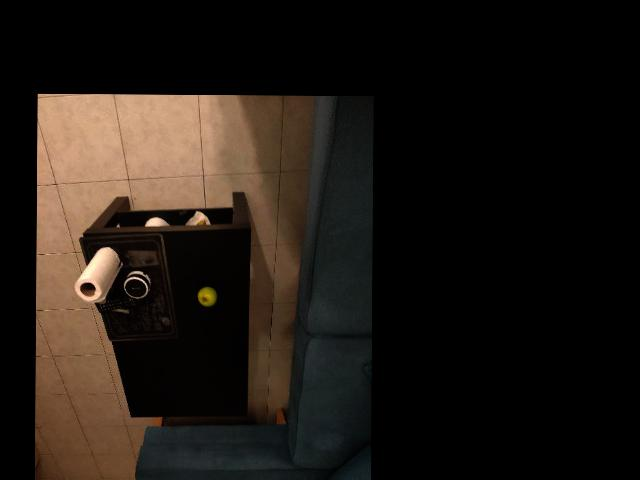apple: (193, 248, 239, 319)
